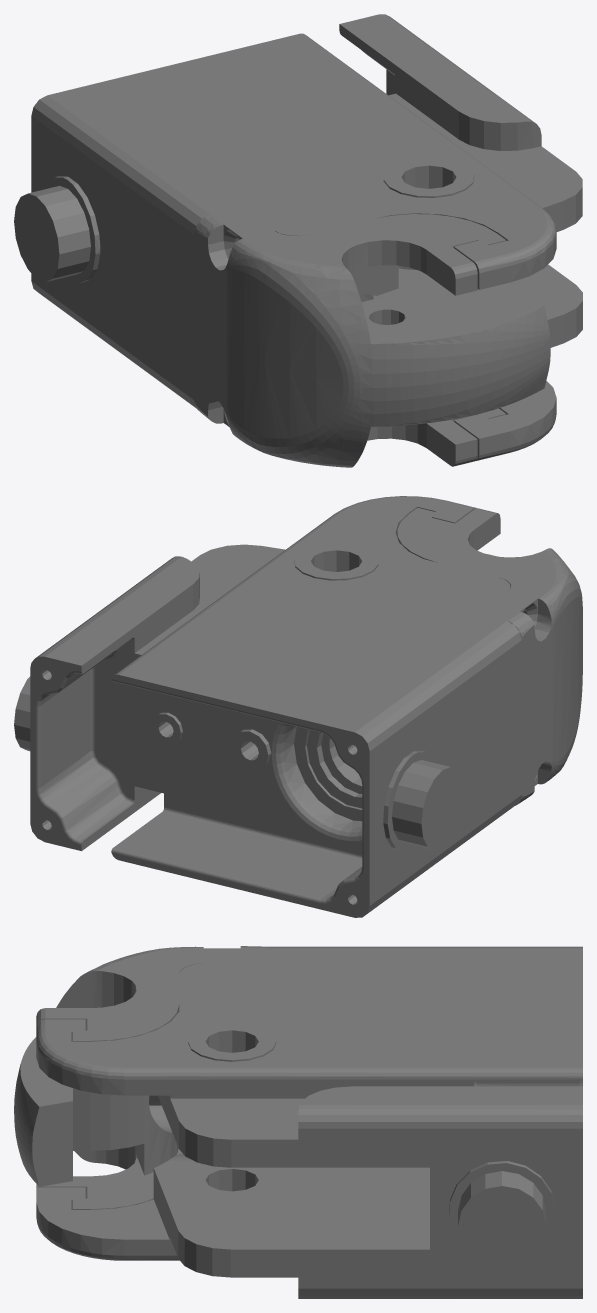
File: rh_pinky_metacarpals_vis.obj
3 views of the same model, one above another, from view 1: azimuth 30°, elevation 25°; view 2: azimuth 150°, elevation 25°; view 3: azimuth 270°, elevation 25° (orthographic). The views are drawn at different scales.
Visible parts, largest first — view 1: rh_pinky_metacarpals; view 2: rh_pinky_metacarpals; view 3: rh_pinky_metacarpals.
Part boxes in pixels (x1=…): rh_pinky_metacarpals: x1=14, y1=14, x2=582, y2=467; rh_pinky_metacarpals: x1=14, y1=496, x2=582, y2=917; rh_pinky_metacarpals: x1=14, y1=946, x2=582, y2=1298.
Bounding box in the file's own units: 0.0276 × 0.0122 × 0.0322.
Materials: 1 (1 with a texture image).
